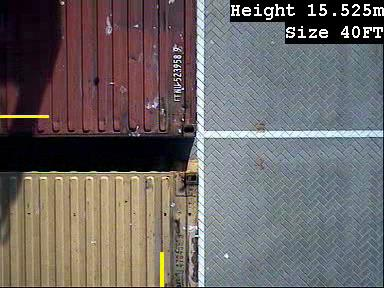groundmarker_2: (204, 26, 238, 99), (200, 167, 234, 240)
